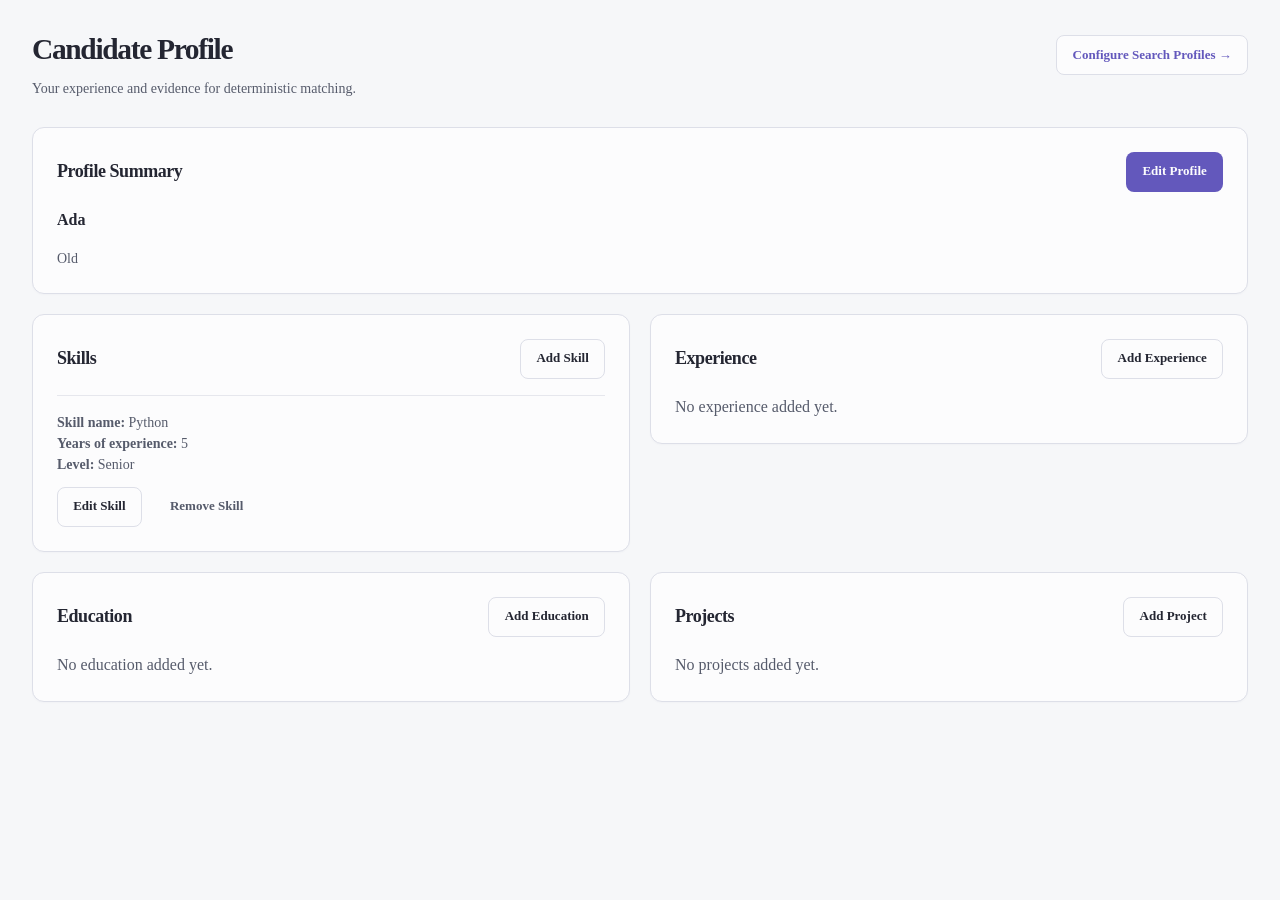
Scenario: Manual candidate profile › loads and edits existing summary without discarding children
The image size is (1280, 900).
Click the button "Edit Profile" at (1175, 172), box [1126,152,1223,192]
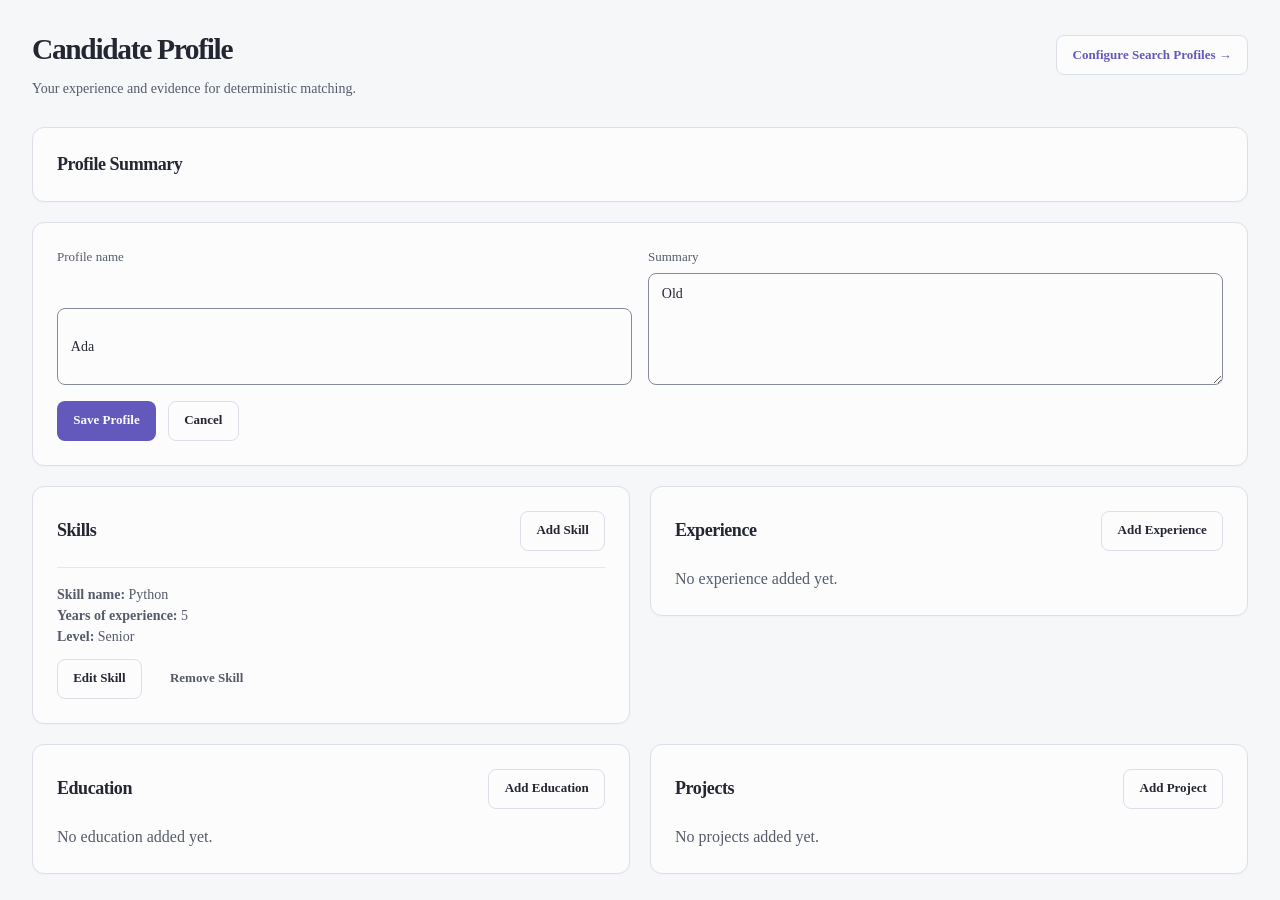
Now the text box labelled "Summary" holds "Old"
Replace the text in the text box labelled "Summary" with "New" at (936, 329), box [648,273,1223,385]
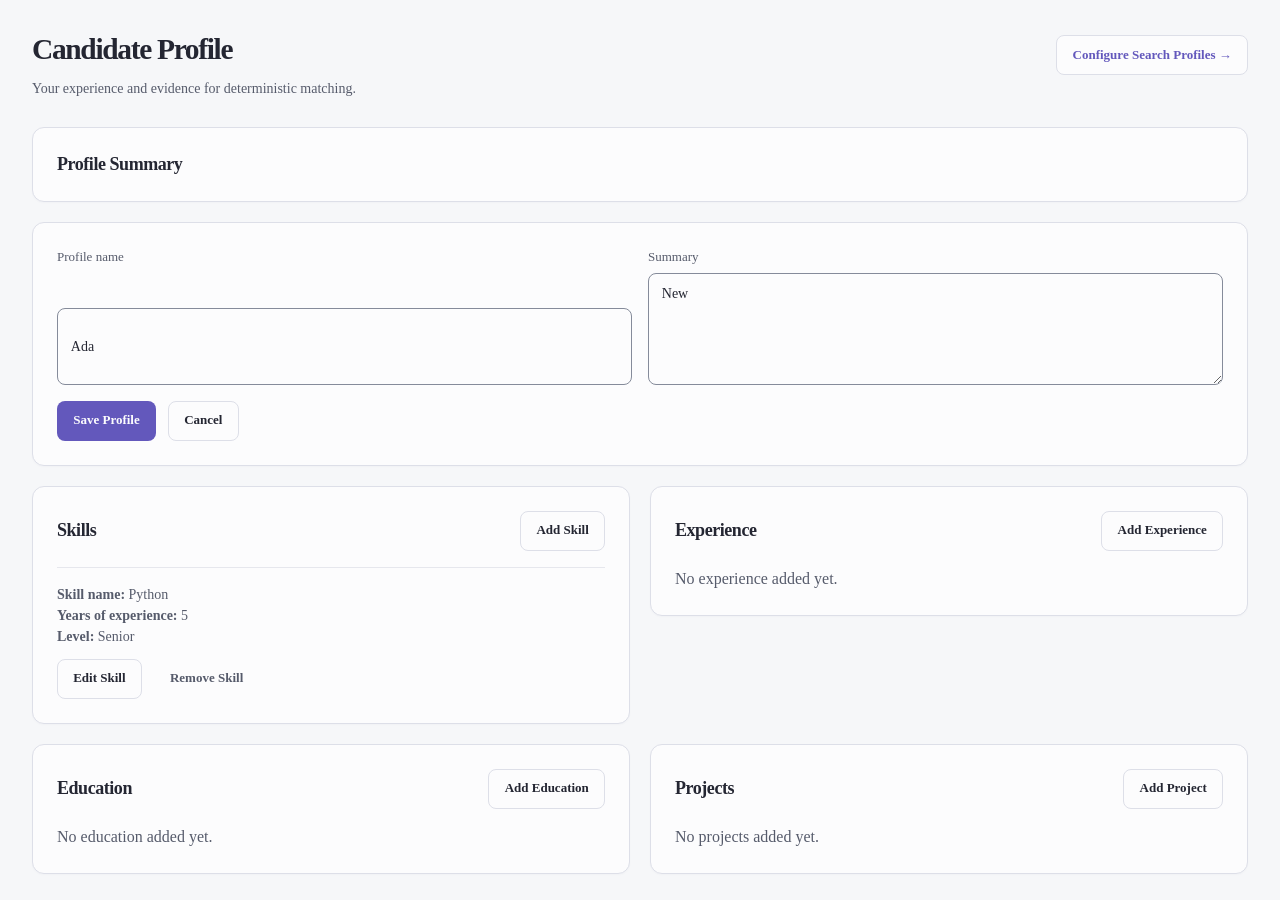
Submit the form named "Profile editor", box [32,222,1248,466]
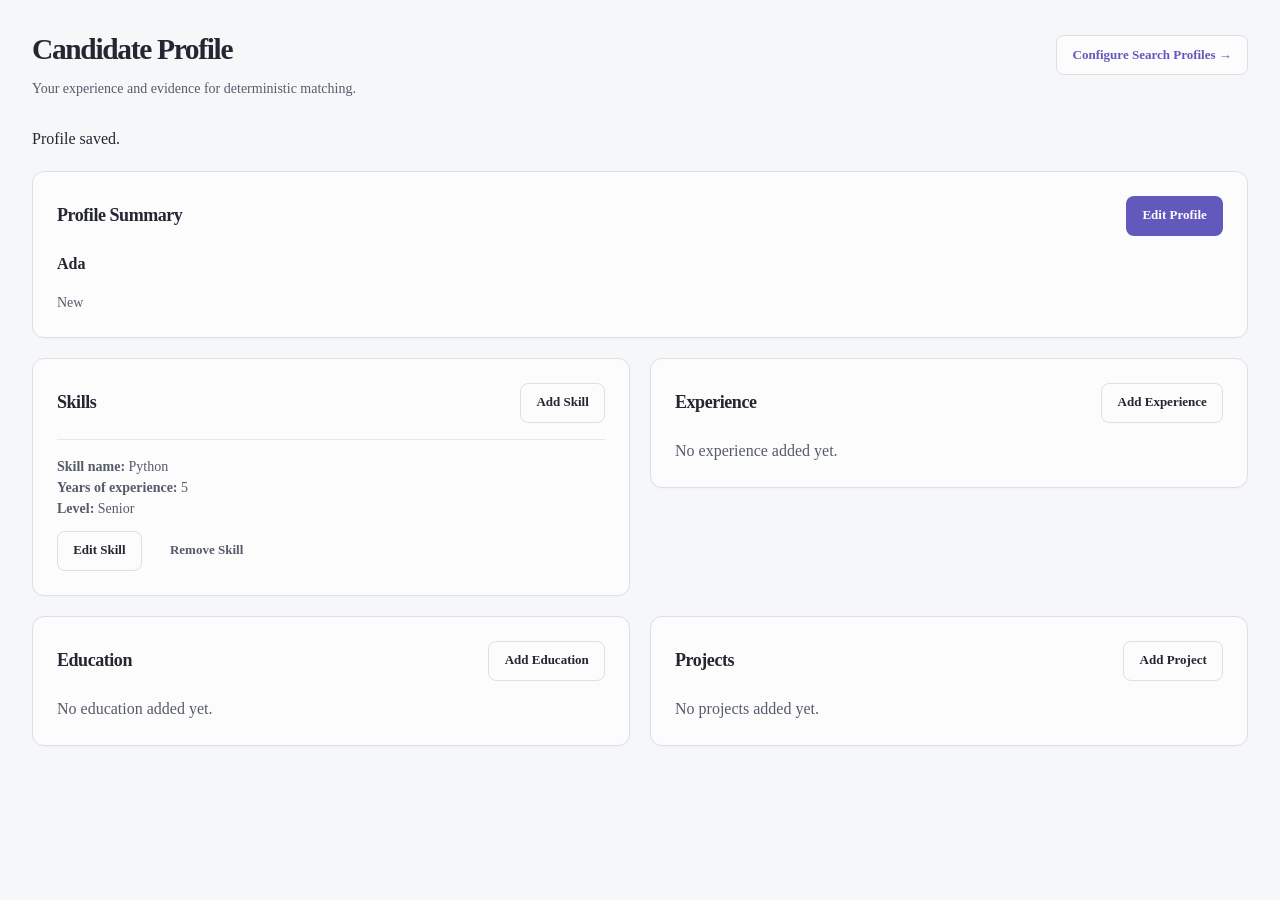
Expected: the text "Python" is shown, [129,458,168,474]
Now the text "Profile saved." is shown, box [32,130,120,146]
